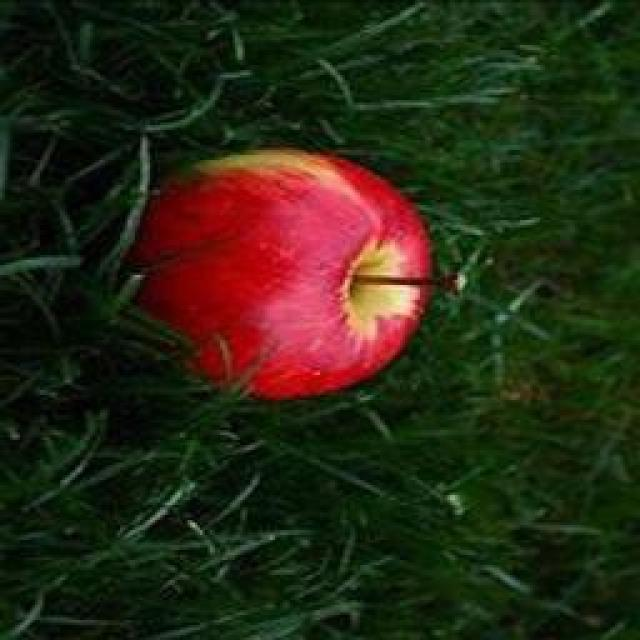Apple: (131, 150, 431, 398)
